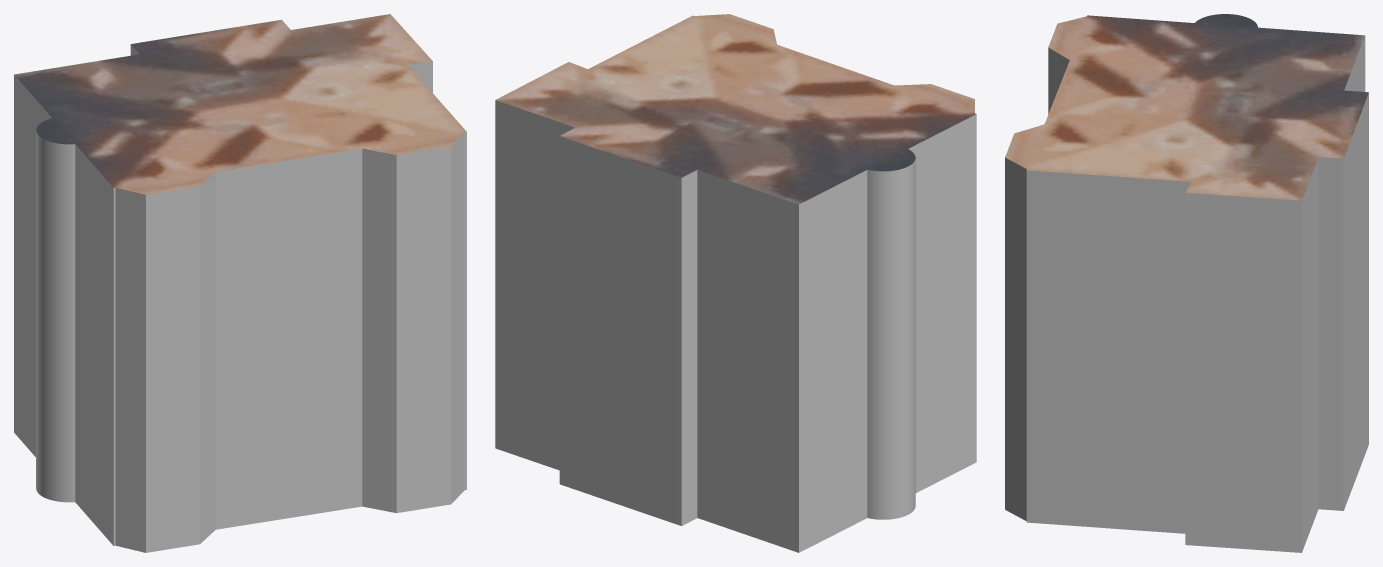
Rendered from DEBW_0010007TxaY.gltf.
3 views of the same model, side by side, from view 1: azimuth 30°, elevation 25°; view 2: azimuth 150°, elevation 25°; view 3: azimuth 270°, elevation 25° (orthographic). The views are drawn at different scales.
Visible parts, largest first — view 1: Z_UP; view 2: Z_UP; view 3: Z_UP.
Part boxes in pixels (x1,y1,x2,y2): Z_UP: [14, 14, 466, 552]; Z_UP: [495, 14, 976, 552]; Z_UP: [1005, 14, 1368, 552].
Size of the model in its own units: 20.25 by 17.82 by 16.68.
Materials: 2 (1 with a texture image).
